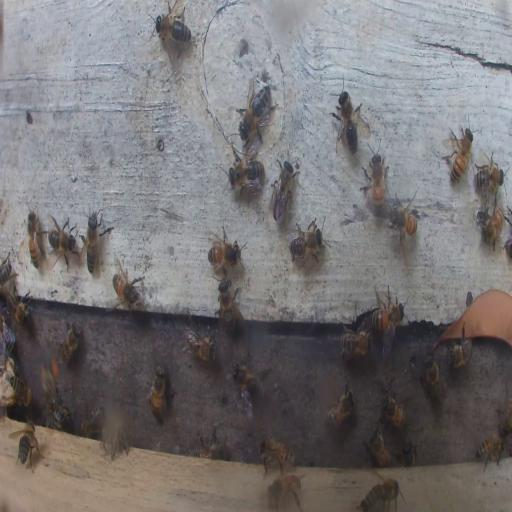bee: (236, 79, 276, 142), (332, 83, 361, 154), (154, 1, 192, 52), (271, 156, 299, 222), (386, 193, 419, 248), (227, 146, 265, 192), (46, 215, 80, 266), (445, 124, 474, 183), (362, 149, 388, 213), (288, 218, 324, 264), (112, 261, 144, 311), (207, 228, 242, 273), (324, 385, 357, 432), (472, 149, 504, 197), (232, 358, 270, 397), (258, 435, 294, 475), (360, 478, 402, 512), (369, 295, 404, 334), (83, 208, 103, 276), (14, 423, 41, 469), (218, 278, 241, 331), (475, 433, 506, 472), (185, 324, 216, 362), (380, 388, 407, 431), (268, 474, 302, 508), (478, 205, 505, 247), (39, 352, 59, 406), (367, 426, 392, 469), (58, 320, 82, 364), (338, 330, 372, 359), (423, 356, 445, 400), (446, 333, 472, 368), (6, 367, 31, 403), (3, 292, 31, 324), (195, 430, 224, 460), (149, 368, 166, 419), (27, 211, 40, 270), (79, 405, 103, 436), (108, 428, 130, 458), (496, 394, 510, 438), (1, 318, 17, 353), (51, 404, 72, 430), (0, 257, 14, 293), (401, 442, 416, 467)
